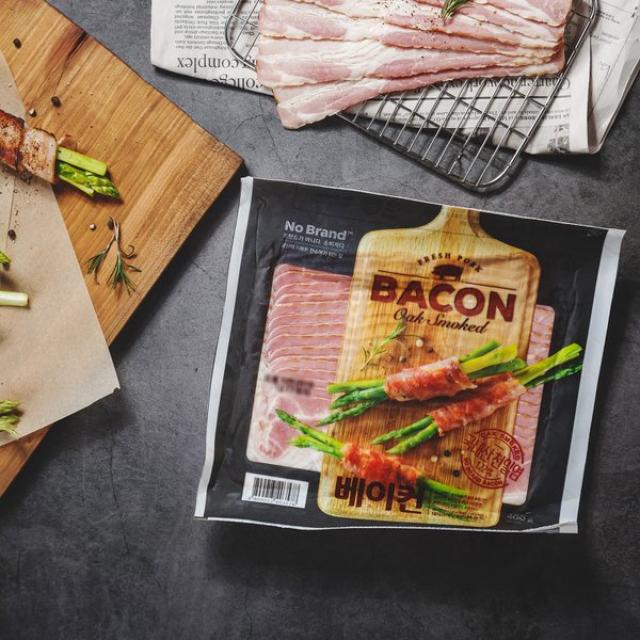Bacon Slice: (258, 0, 573, 127), (249, 267, 351, 471)
